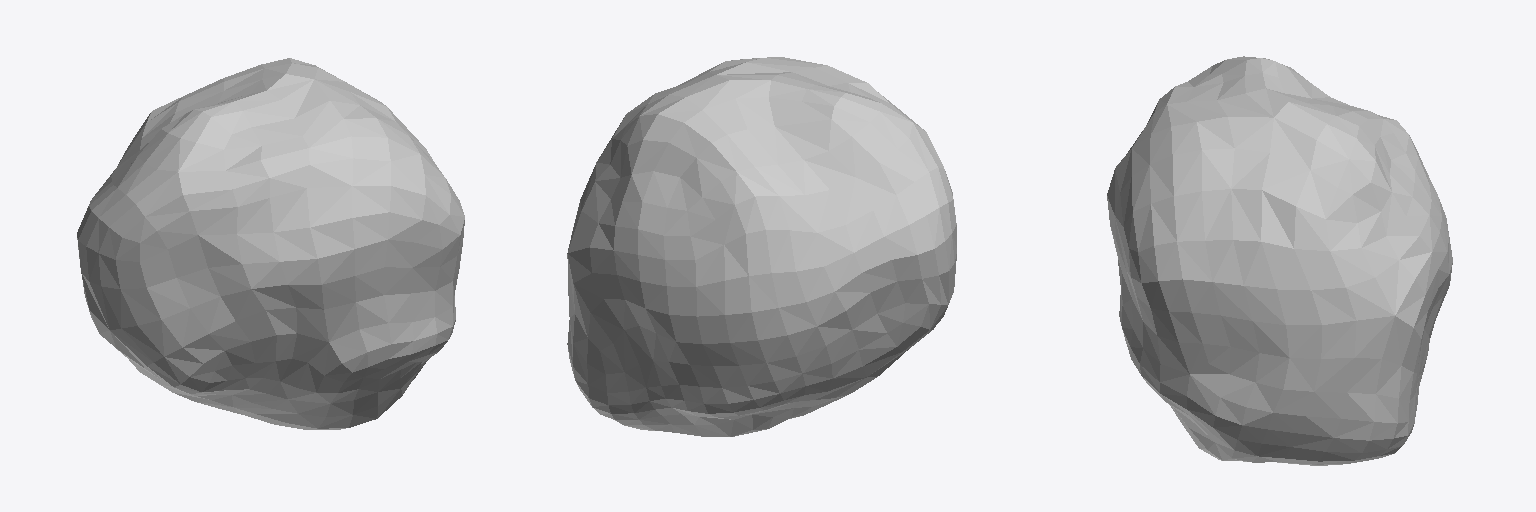
Rendered from Rock_2.obj.
3 views of the same model, side by side, from view 1: azimuth 30°, elevation 25°; view 2: azimuth 150°, elevation 25°; view 3: azimuth 270°, elevation 25° (orthographic).
Visible parts, largest first — view 1: Group43095; view 2: Group43095; view 3: Group43095.
Part boxes in pixels (bbox=[...]): Group43095: bbox=[77, 58, 464, 429]; Group43095: bbox=[567, 57, 956, 436]; Group43095: bbox=[1107, 56, 1452, 465].
Size of the model in its own units: 3.05 by 2.86 by 2.63.